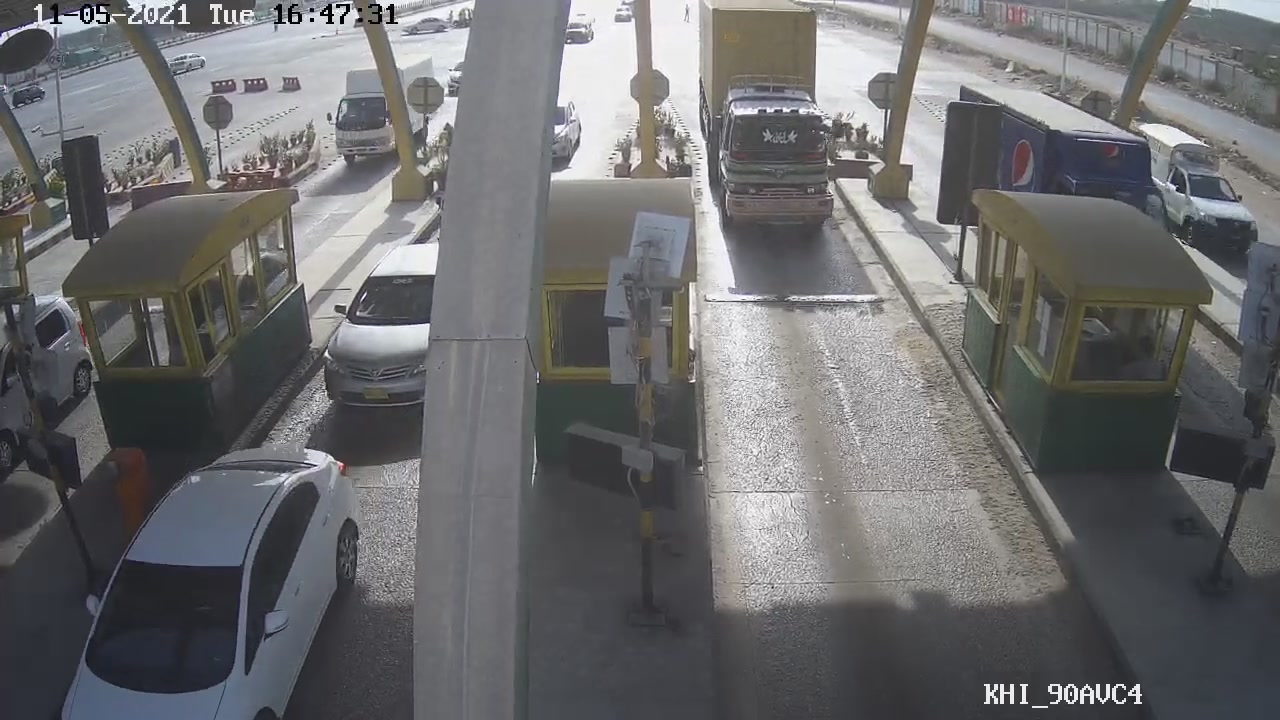F6: (686, 1, 854, 232)
